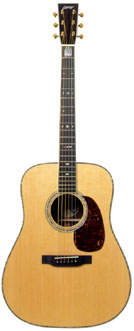guitar: (2, 3, 132, 330)
